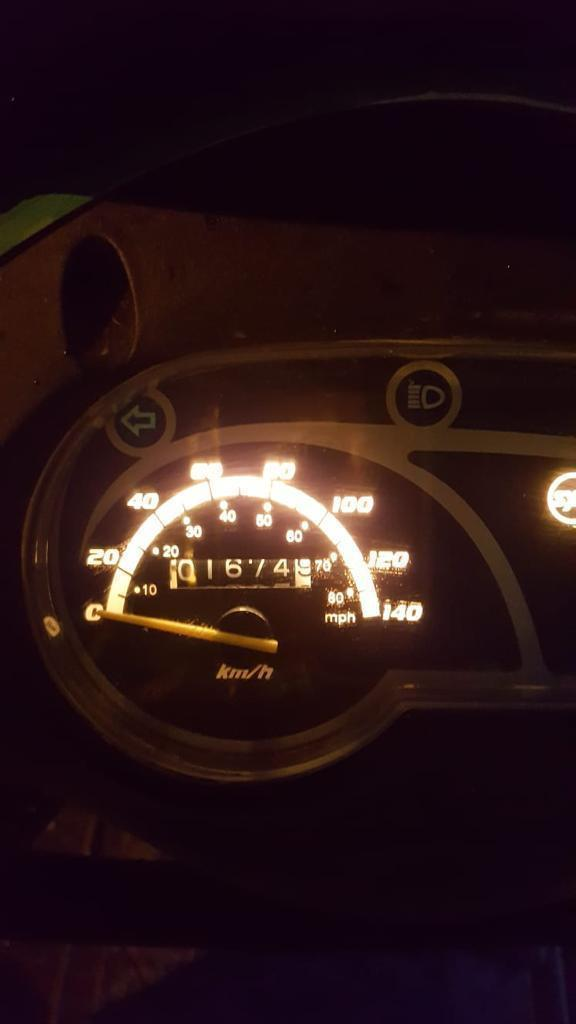0: (176, 557, 196, 584)
1: (202, 557, 216, 584)
4: (271, 558, 292, 581)
6: (225, 556, 242, 582)
7: (248, 557, 268, 581)
9: (297, 557, 312, 580)
odometer: (167, 556, 314, 590)
